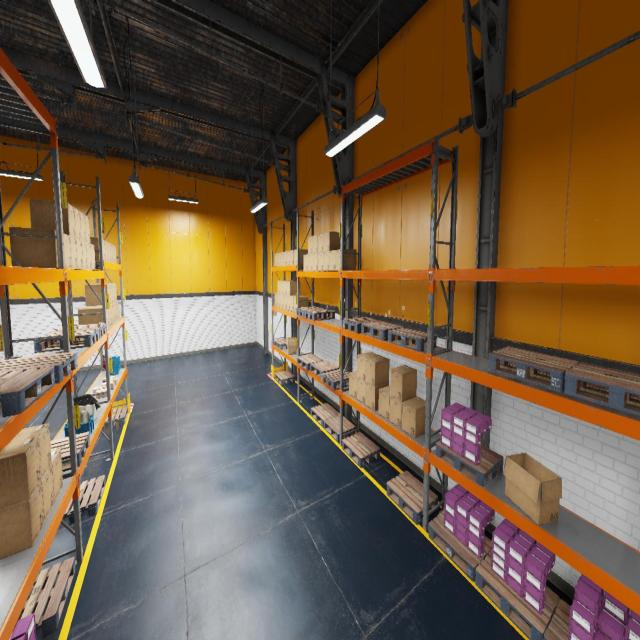box: (503, 453, 562, 525), (0, 480, 44, 560), (0, 436, 41, 508), (9, 423, 51, 479), (9, 227, 58, 268), (29, 198, 76, 238), (390, 365, 417, 401), (402, 396, 425, 438), (389, 396, 416, 428), (41, 464, 54, 522), (365, 382, 389, 411), (366, 356, 389, 386), (357, 352, 379, 382), (51, 449, 63, 502), (83, 305, 109, 327), (85, 284, 110, 306), (78, 307, 103, 325), (378, 386, 390, 421), (336, 249, 356, 270), (90, 284, 112, 303), (95, 283, 117, 301), (324, 231, 341, 251), (64, 234, 72, 268), (323, 251, 336, 271), (90, 237, 100, 261), (70, 236, 77, 269), (74, 207, 81, 240), (349, 371, 357, 399), (294, 296, 308, 312), (76, 238, 83, 269), (290, 296, 304, 311), (286, 281, 300, 296), (357, 378, 365, 404), (294, 249, 307, 265), (81, 241, 88, 269), (105, 283, 115, 302), (80, 211, 86, 242), (86, 242, 92, 270), (90, 243, 96, 270), (286, 338, 296, 354), (277, 280, 288, 294), (85, 214, 90, 243), (102, 378, 114, 390), (93, 385, 106, 396), (329, 250, 336, 270), (312, 234, 318, 253), (95, 388, 106, 398), (312, 253, 318, 271), (318, 252, 323, 271), (318, 233, 323, 252), (108, 304, 112, 325), (283, 281, 289, 295), (110, 303, 114, 323), (106, 378, 117, 385), (308, 236, 312, 253), (308, 253, 312, 270), (304, 254, 308, 271), (286, 250, 290, 266), (102, 375, 114, 380), (105, 241, 108, 261), (113, 302, 116, 321), (286, 296, 290, 310), (112, 245, 115, 263), (114, 245, 117, 263), (115, 301, 118, 319), (280, 295, 284, 308), (290, 250, 293, 265), (103, 239, 105, 261), (280, 252, 283, 266), (108, 242, 110, 262), (280, 281, 283, 294), (277, 253, 280, 266), (110, 244, 112, 262), (117, 300, 119, 318), (284, 295, 286, 309), (284, 252, 286, 266), (278, 294, 280, 307), (275, 253, 277, 266), (275, 294, 277, 306)
pallets: (475, 550, 559, 639), (428, 510, 492, 582), (20, 556, 76, 638), (488, 346, 579, 392), (564, 362, 640, 415), (436, 439, 504, 486), (386, 470, 438, 524), (0, 366, 55, 417), (544, 599, 610, 640), (58, 474, 105, 528), (0, 352, 78, 384), (33, 328, 99, 353), (50, 432, 90, 471), (342, 432, 380, 467), (388, 328, 436, 351), (49, 323, 106, 341), (324, 414, 356, 442), (361, 321, 405, 340), (311, 402, 339, 427), (101, 406, 128, 430), (342, 317, 382, 333), (322, 369, 349, 390), (310, 360, 339, 378), (297, 354, 323, 370), (304, 308, 335, 320), (295, 306, 323, 317), (274, 370, 294, 384), (274, 338, 287, 349)
